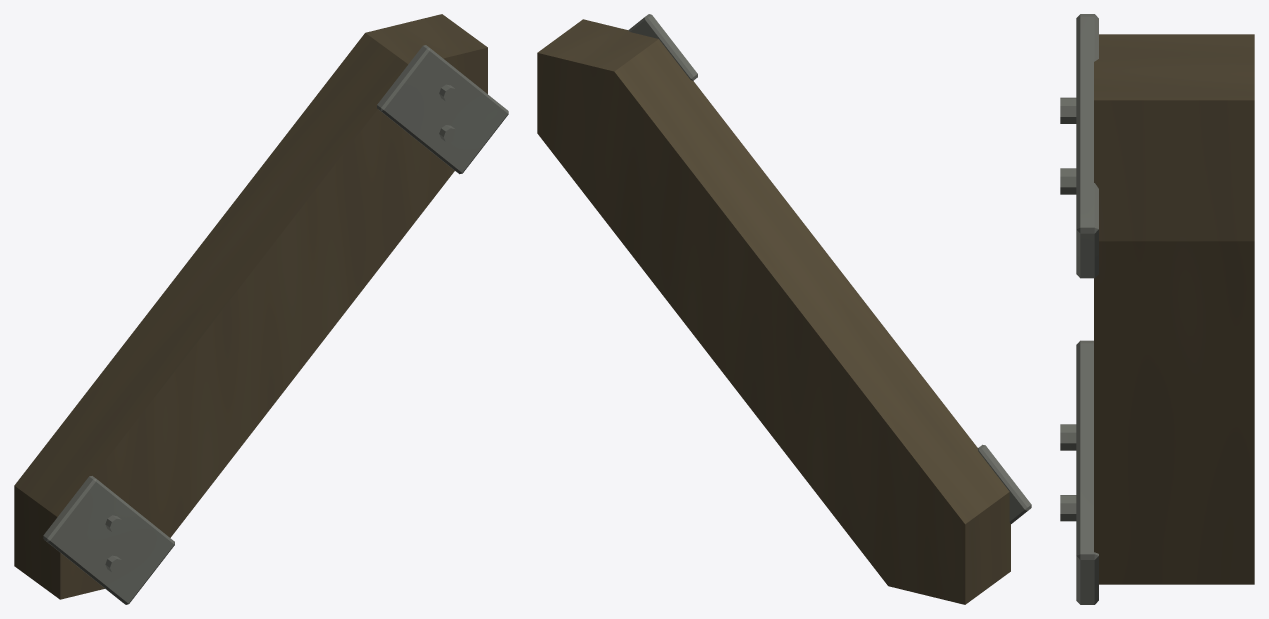
The model's file is WarrensC_CCS87_DiagonalTimberBrace_Mars_SM.fbx.
3 renders of one model, left to right at view 1: azimuth 30°, elevation 25°; view 2: azimuth 150°, elevation 25°; view 3: azimuth 270°, elevation 25°, orthographic. The views are drawn at different scales.
Parts seen in each view (by area): view 1: WarrensC_CCS87_DiagonalTimberBrace_Mars_SM.001; view 2: WarrensC_CCS87_DiagonalTimberBrace_Mars_SM.001; view 3: WarrensC_CCS87_DiagonalTimberBrace_Mars_SM.001.
Part boxes in pixels (x1=…): WarrensC_CCS87_DiagonalTimberBrace_Mars_SM.001: x1=14, y1=14, x2=508, y2=604; WarrensC_CCS87_DiagonalTimberBrace_Mars_SM.001: x1=537, y1=14, x2=1031, y2=604; WarrensC_CCS87_DiagonalTimberBrace_Mars_SM.001: x1=1060, y1=14, x2=1254, y2=604.
Size of the model in its own units: 120 by 25 by 120.
